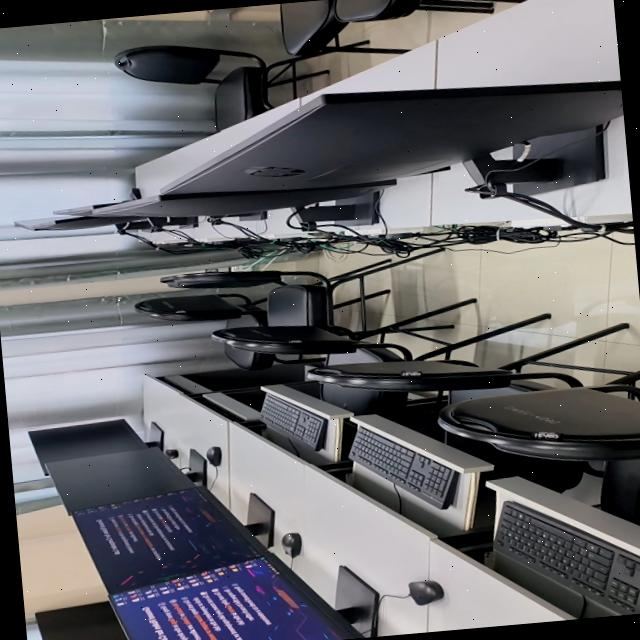Chair: (438, 383, 640, 524), (306, 322, 640, 405), (114, 44, 327, 130), (212, 312, 550, 365), (160, 269, 335, 327), (279, 0, 409, 55), (134, 292, 266, 326), (334, 0, 522, 20), (321, 382, 382, 412), (216, 340, 275, 368), (371, 313, 423, 333), (306, 24, 313, 29)
Fire Extinguisher: (260, 393, 327, 449)
Keyboard: (494, 500, 640, 615), (351, 424, 458, 507), (261, 393, 327, 449)
Monitor: (160, 79, 623, 192), (109, 556, 358, 640), (72, 487, 258, 592), (91, 178, 395, 215), (46, 446, 194, 510), (28, 418, 155, 473), (36, 600, 128, 640), (15, 214, 197, 230)
Mouse: (408, 579, 443, 604), (281, 532, 301, 556), (206, 445, 221, 465)
